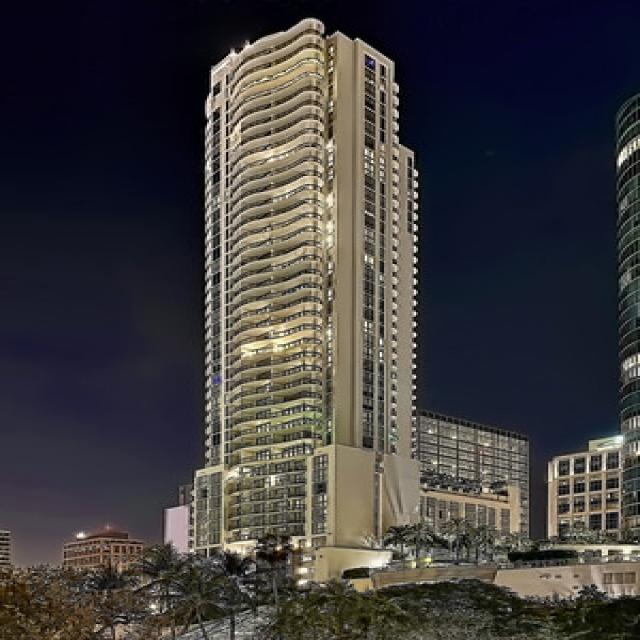building: (174, 14, 428, 583)
